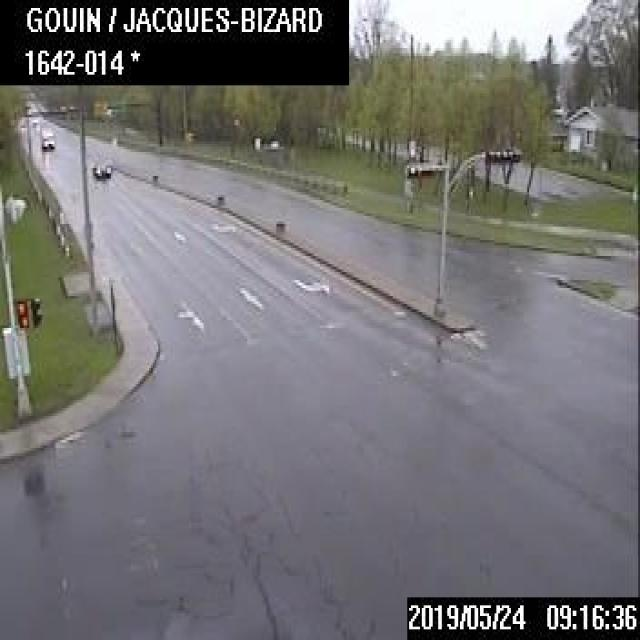vehicle: (38, 122, 54, 148), (90, 160, 110, 177)
